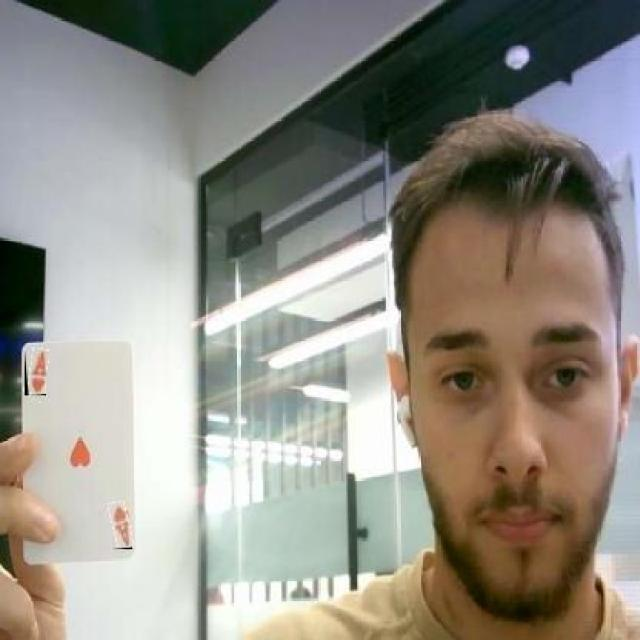AH: (25, 350, 47, 396), (111, 502, 132, 549)
